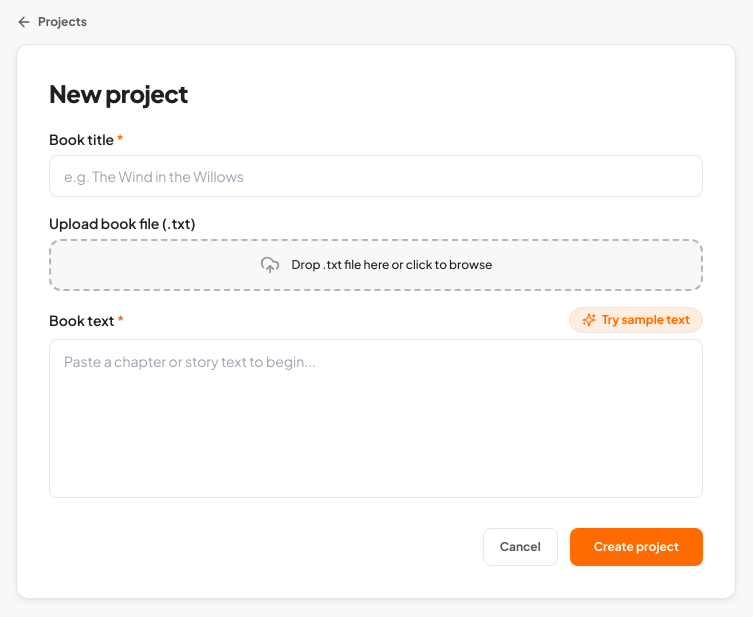
Test: US-4.3: NewProjectPage Book Creation & Validation › BR-NEW-SUBMIT-01: transitions submit button to disabled "Creating..." during in-flight submission
The width and height of the screenshot is (753, 617).
Type "Alice in Wonderland" into the field with placeholder "e.g. The Wind in the Willows" at {"x": 376, "y": 176}, box [49,155,703,197]
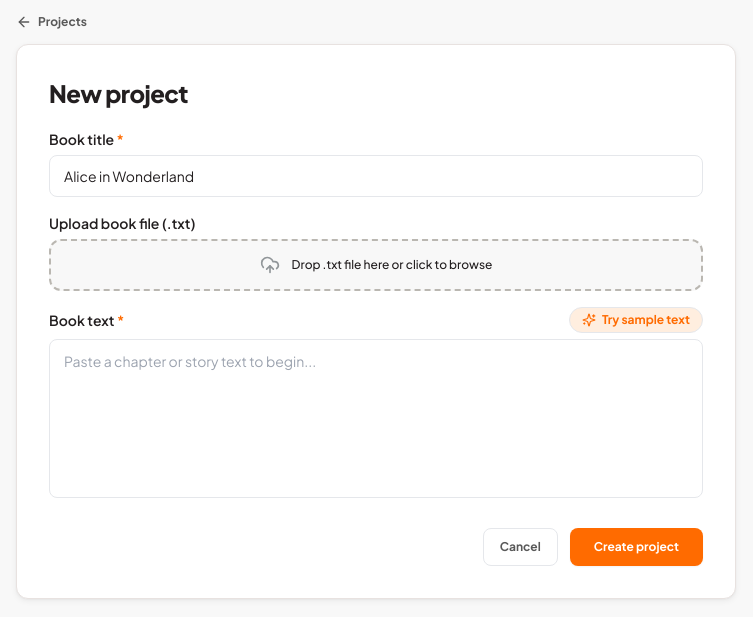
Type "Alice was beginning to get very tired..." into the text box with placeholder "Paste a chapter or story text to begin..." at {"x": 376, "y": 418}, box [49,339,703,498]
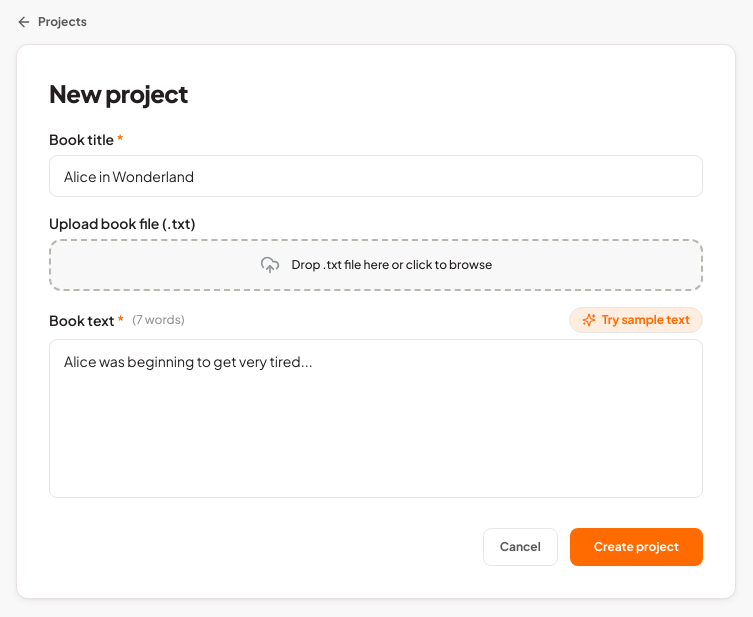
Click the button "Create project" at {"x": 636, "y": 546}, box [570,528,703,566]
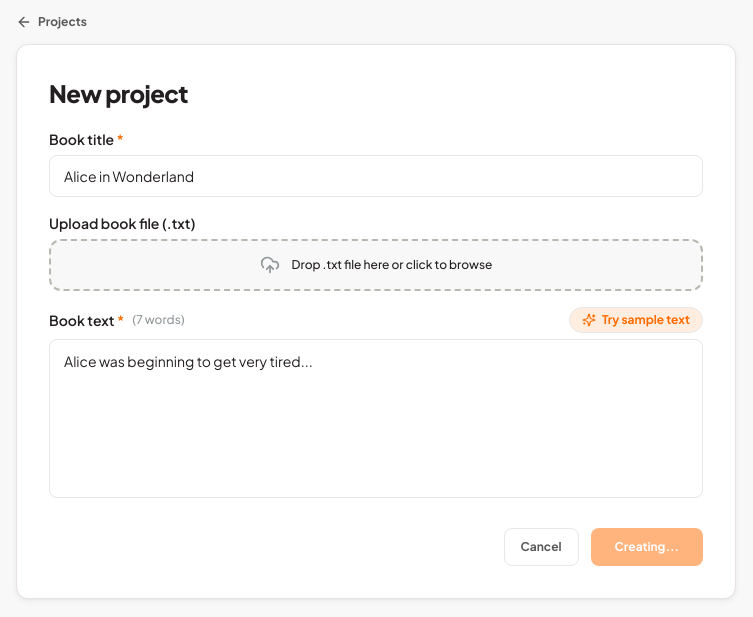
Result: the button "Creating..." is disabled at [590,528,703,566]
